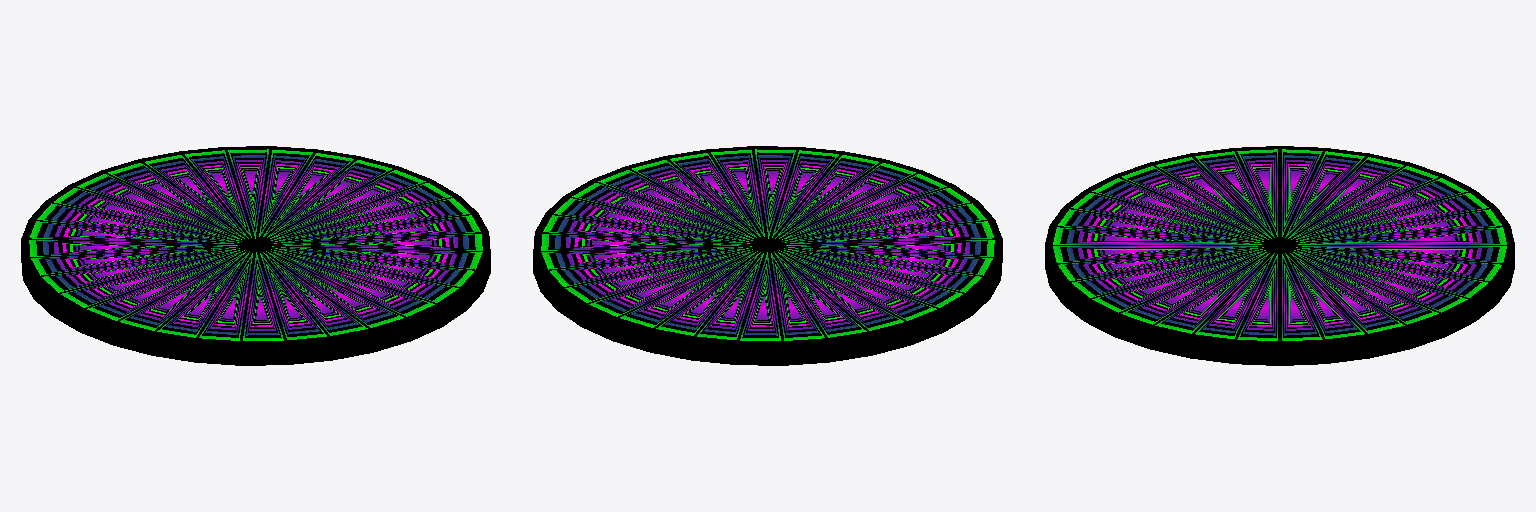
The picture shows the model from 3 angles: view 1: azimuth 30°, elevation 25°; view 2: azimuth 150°, elevation 25°; view 3: azimuth 270°, elevation 25°; orthographic projection.
Parts seen in each view (by area): view 1: Circle; view 2: Circle; view 3: Circle.
Boxes of the visible parts, x1=… form: Circle: x1=21, y1=146, x2=490, y2=365; Circle: x1=533, y1=146, x2=1002, y2=365; Circle: x1=1045, y1=146, x2=1514, y2=365.
Bounding box in the file's own units: 4 × 0.2 × 4.
3 materials, 1 textured.